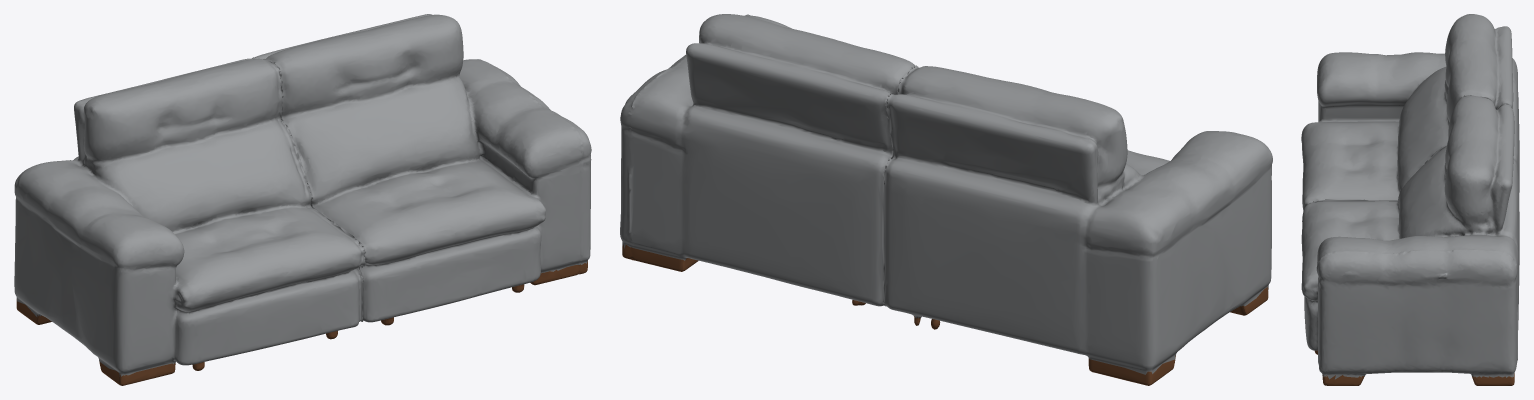
File: parma-230-foto.glb
The picture shows the model from 3 angles, left to right: view 1: azimuth 30°, elevation 25°; view 2: azimuth 150°, elevation 25°; view 3: azimuth 270°, elevation 25°; orthographic projection. The views are drawn at different scales.
Visible parts, largest first — view 1: Sofa; view 2: Sofa; view 3: Sofa.
Part boxes in pixels (box(x1,y1,x2,y2)): Sofa: box(14, 14, 591, 385); Sofa: box(620, 14, 1272, 385); Sofa: box(1301, 14, 1519, 385).
Size of the model in its own units: 2.3 by 0.98 by 1.
